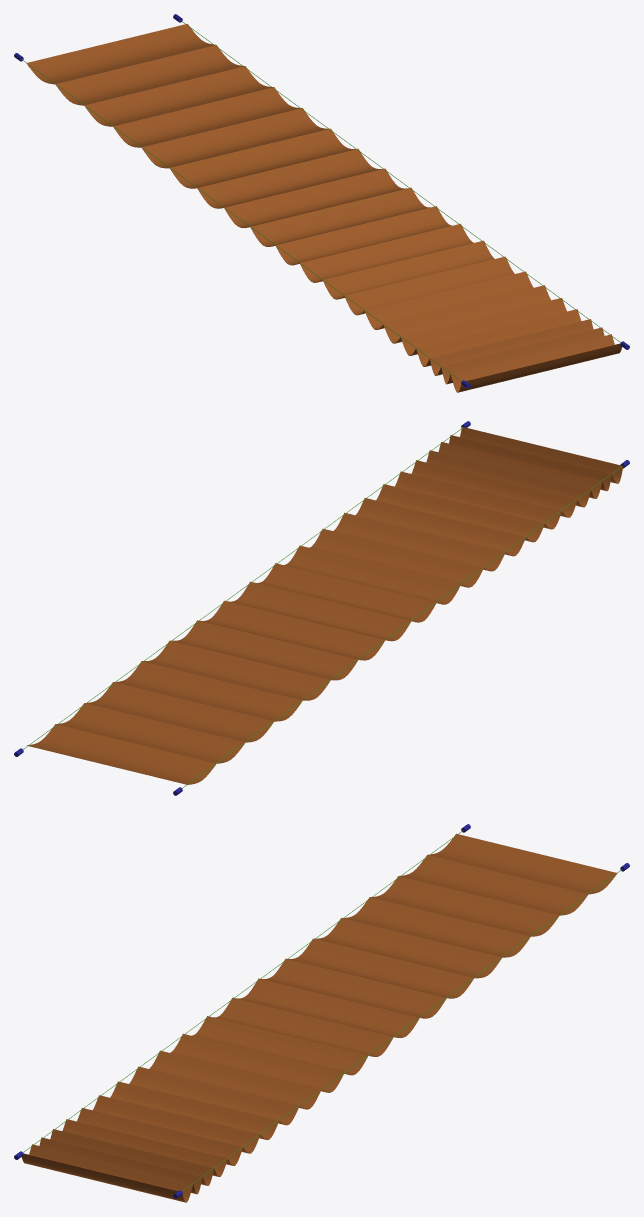
The model's file is stoffbahn_repeat.FBX.
The picture shows the model from 3 angles, top to bottom: view 1: azimuth 30°, elevation 25°; view 2: azimuth 150°, elevation 25°; view 3: azimuth 330°, elevation 25°; orthographic projection.
Visible parts, largest first — view 1: stoffbahn_repeat; view 2: stoffbahn_repeat; view 3: stoffbahn_repeat.
Part boxes in pixels (left/top/right/bottom): stoffbahn_repeat: left=14, top=14, right=629, bottom=392; stoffbahn_repeat: left=14, top=421, right=629, bottom=795; stoffbahn_repeat: left=14, top=824, right=629, bottom=1202.
Size of the model in its own units: 7.22 by 0.6773 by 34.55.
